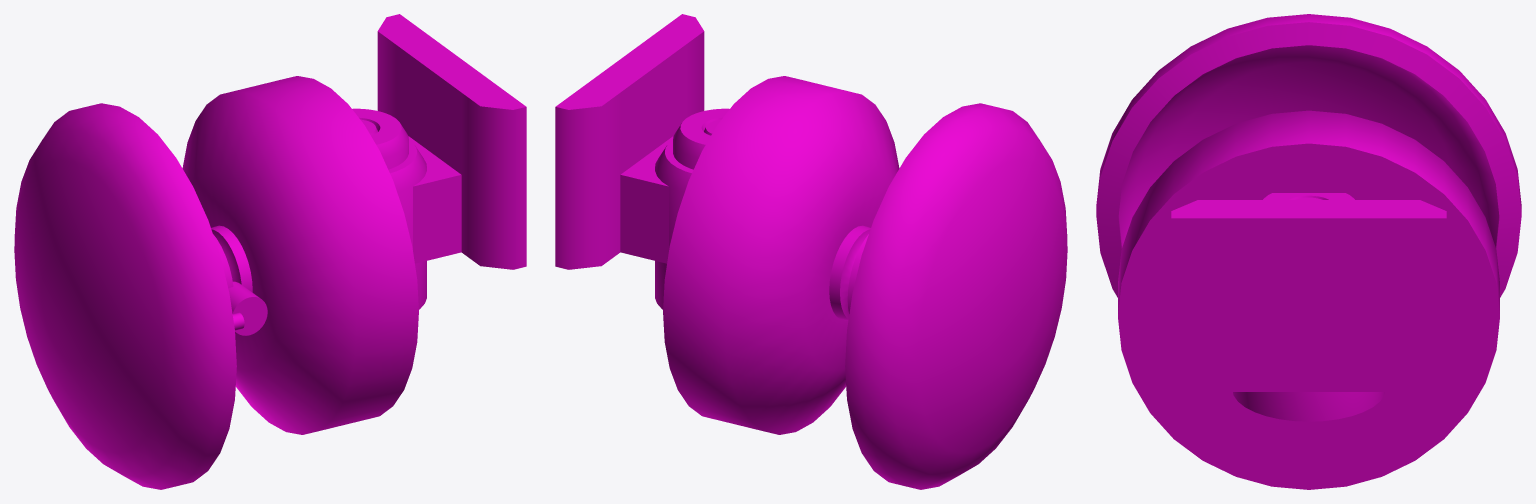
The model's file is Comp_Shield.fbx.
3 views of the same model, side by side, from view 1: azimuth 30°, elevation 25°; view 2: azimuth 150°, elevation 25°; view 3: azimuth 270°, elevation 25° (orthographic). The views are drawn at different scales.
Visible parts, largest first — view 1: Cylinder.074, Cylinder.075; view 2: Cylinder.074, Cylinder.075; view 3: Cylinder.074, Cylinder.075.
Part boxes in pixels (x1=…): Cylinder.074: x1=14, y1=76, x2=418, y2=489; Cylinder.075: x1=352, y1=14, x2=526, y2=309; Cylinder.074: x1=663, y1=76, x2=1067, y2=489; Cylinder.075: x1=555, y1=14, x2=729, y2=309; Cylinder.074: x1=1096, y1=14, x2=1521, y2=489; Cylinder.075: x1=1171, y1=193, x2=1446, y2=421.
Bounding box in the file's own units: 433 × 372 × 372.
